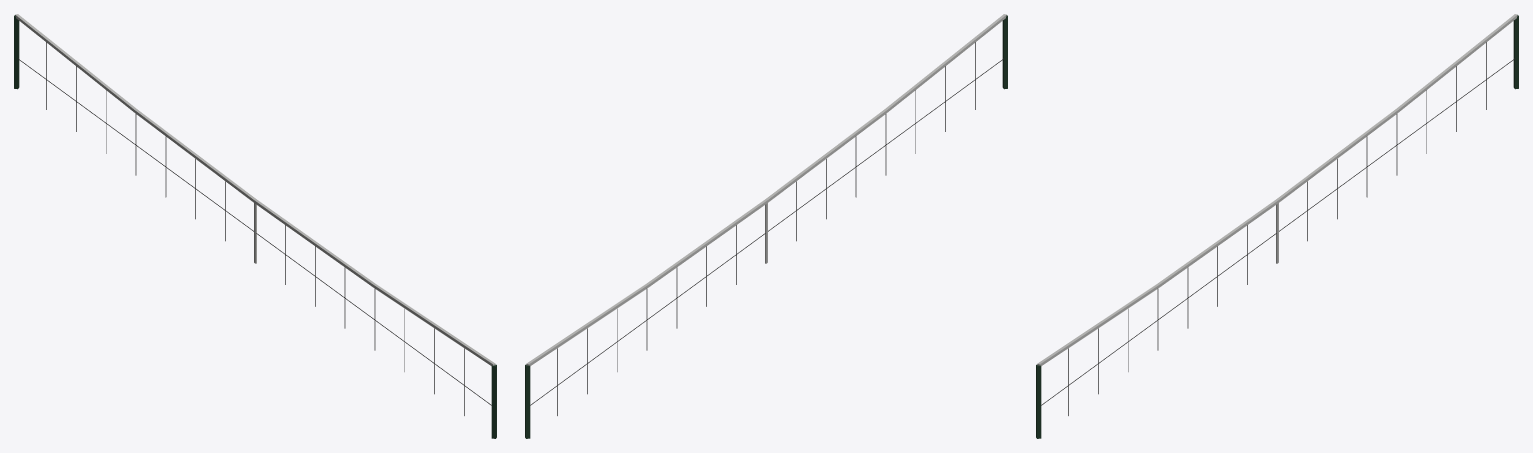
The model's file is SM_Prop_tennis_net_0_LOD1.glb.
The picture shows the model from 3 angles, left to right: view 1: azimuth 30°, elevation 25°; view 2: azimuth 150°, elevation 25°; view 3: azimuth 330°, elevation 25°; orthographic projection.
Visible parts, largest first — view 1: SM_Prop_tennis_net_0_LOD1; view 2: SM_Prop_tennis_net_0_LOD1; view 3: SM_Prop_tennis_net_0_LOD1.
Part boxes in pixels (x1,y1,x2,y2): SM_Prop_tennis_net_0_LOD1: (14,14,496,438); SM_Prop_tennis_net_0_LOD1: (525,14,1007,438); SM_Prop_tennis_net_0_LOD1: (1036,14,1518,438).
Size of the model in its own units: 0.08 by 1.09 by 12.88.
